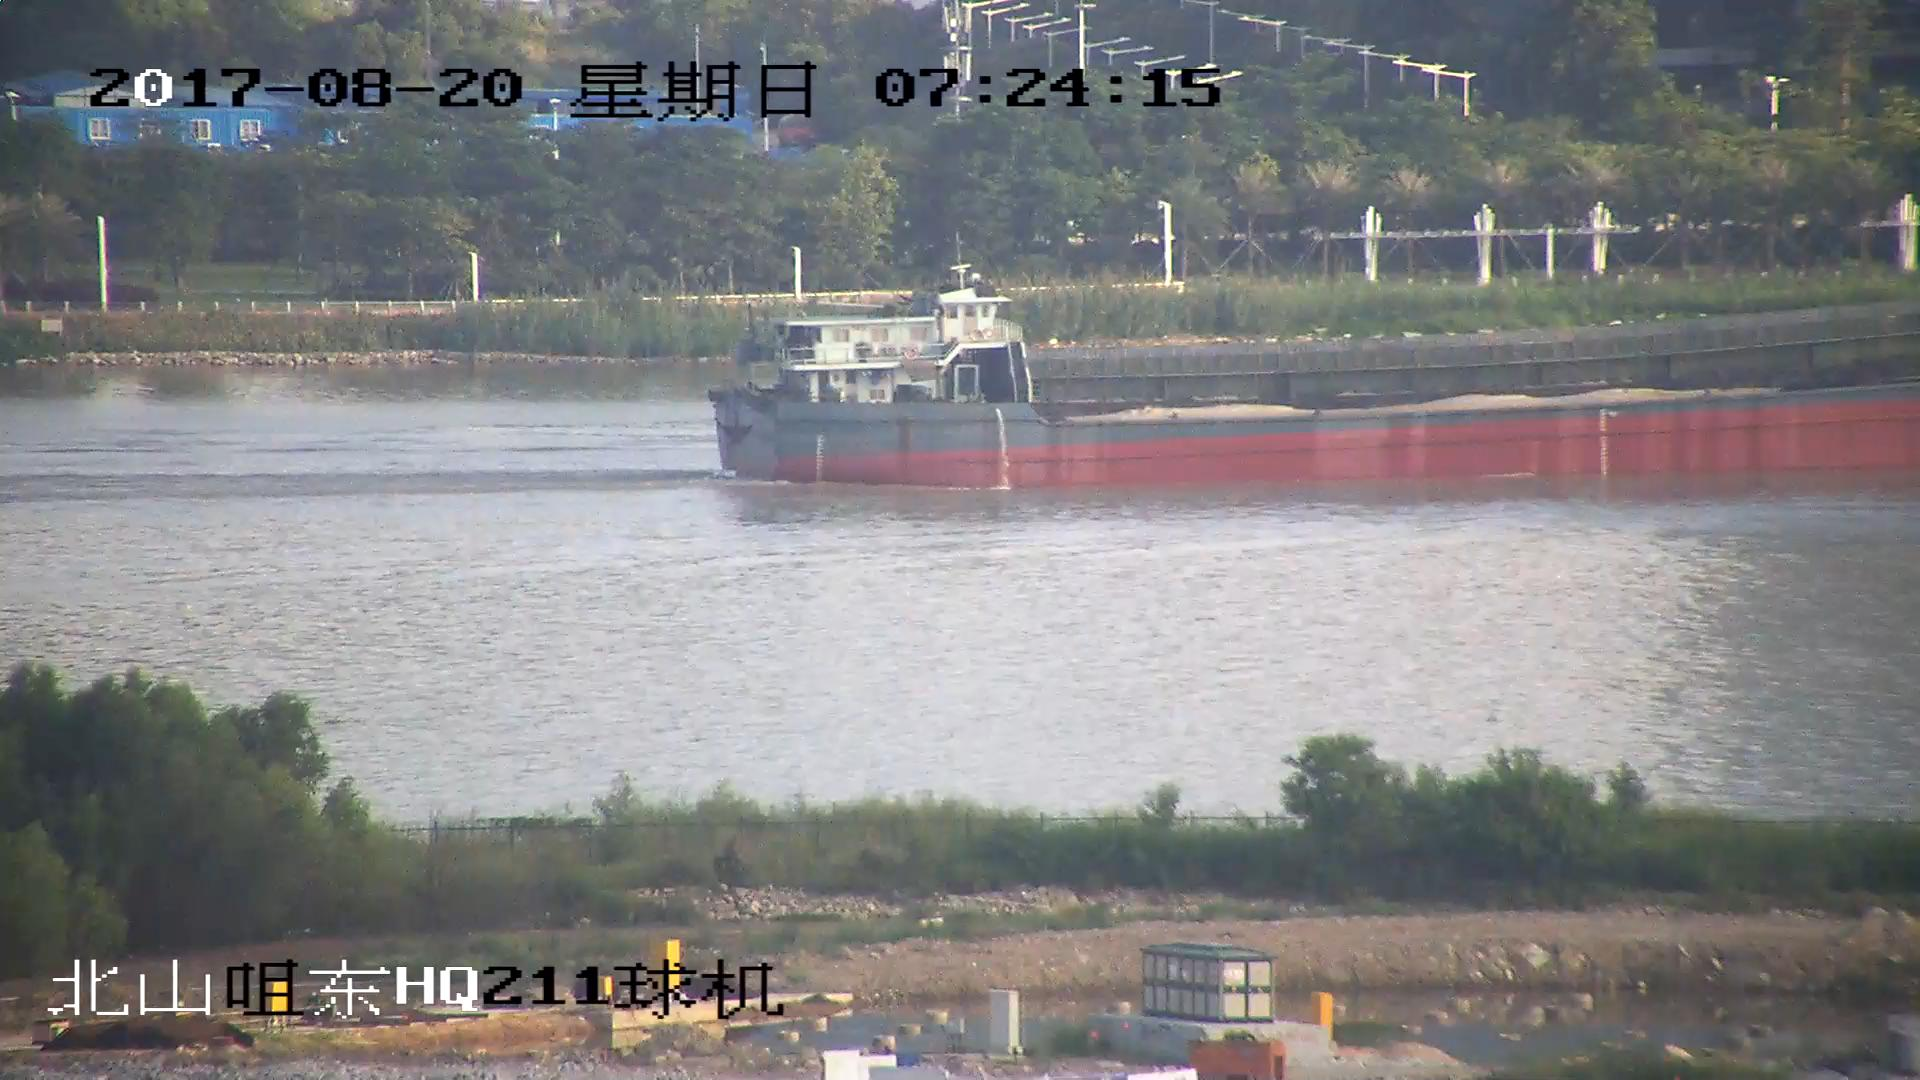bulk cargo carrier: (703, 259, 1920, 485)
